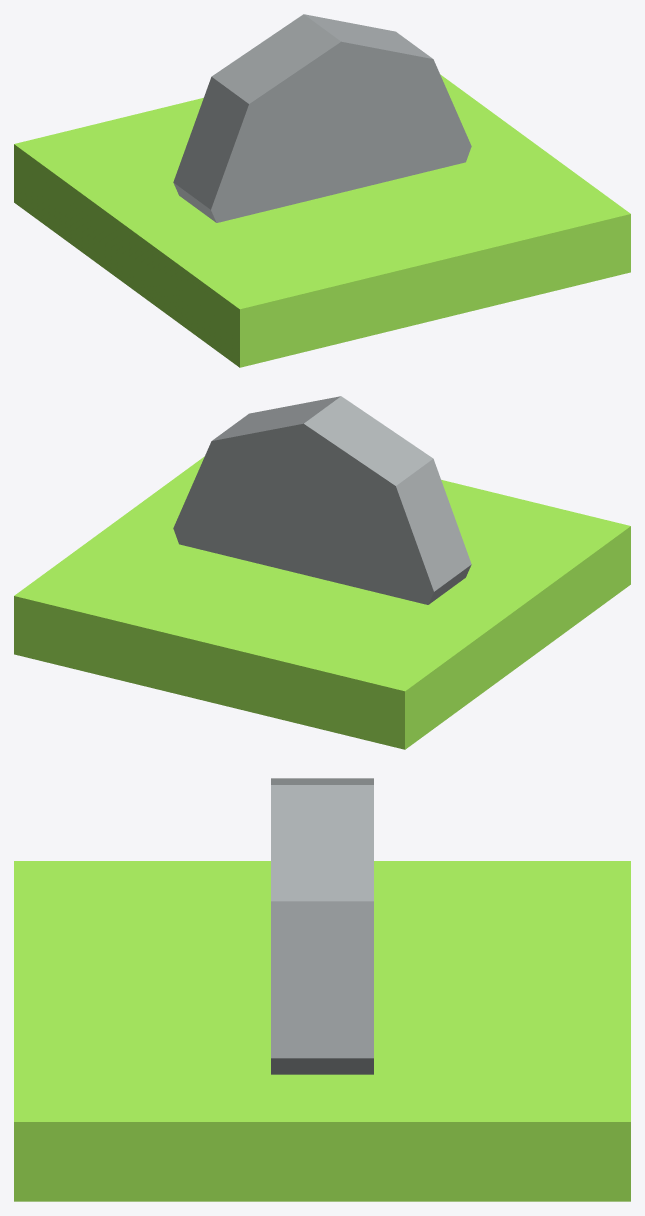
The model's file is connector_hardpoint_mk1.glb.
3 views of the same model, one above another, from view 1: azimuth 30°, elevation 25°; view 2: azimuth 150°, elevation 25°; view 3: azimuth 270°, elevation 25° (orthographic). The views are drawn at different scales.
Visible parts, largest first — view 1: GEO_Hardpoint_Lime_Plate, GEO_Hardpoint_Center_Ring; view 2: GEO_Hardpoint_Lime_Plate, GEO_Hardpoint_Center_Ring; view 3: GEO_Hardpoint_Lime_Plate, GEO_Hardpoint_Center_Ring.
Part boxes in pixels (left/top/right/bottom): GEO_Hardpoint_Lime_Plate: left=14, top=74, right=630, bottom=367; GEO_Hardpoint_Center_Ring: left=173, top=14, right=471, bottom=222; GEO_Hardpoint_Lime_Plate: left=14, top=456, right=630, bottom=749; GEO_Hardpoint_Center_Ring: left=173, top=396, right=471, bottom=604; GEO_Hardpoint_Lime_Plate: left=14, top=861, right=630, bottom=1201; GEO_Hardpoint_Center_Ring: left=271, top=778, right=373, bottom=1074.
Size of the model in its own units: 0.42 by 0.28 by 0.42.
